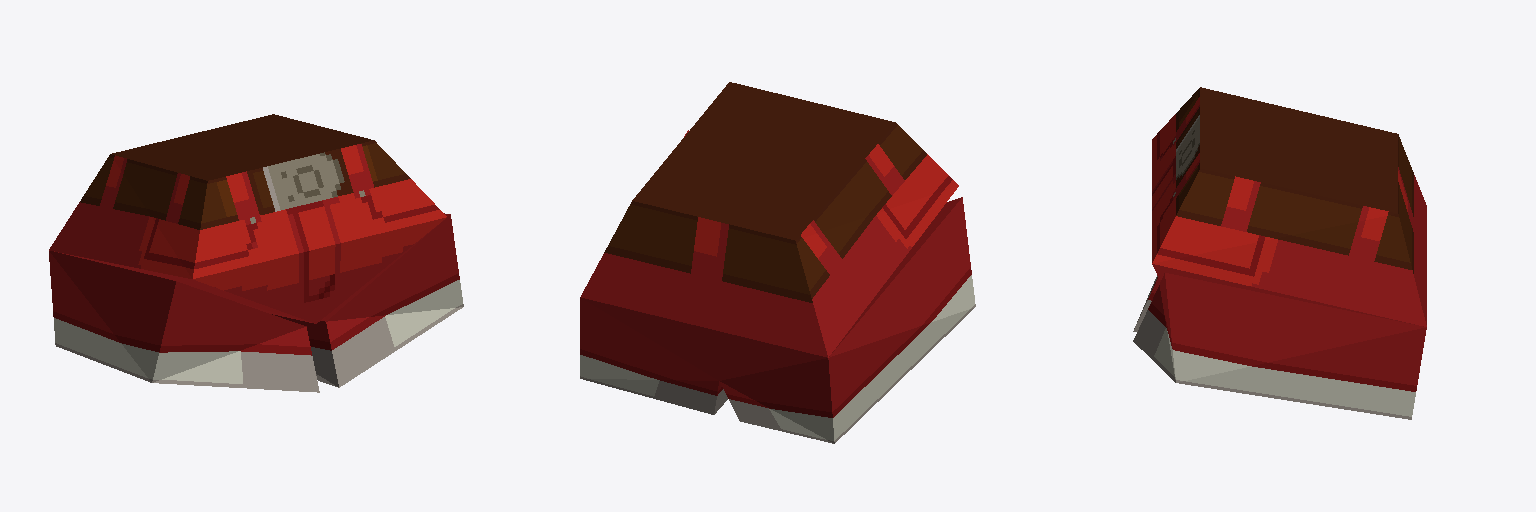
3 renders of one model, left to right at view 1: azimuth 30°, elevation 25°; view 2: azimuth 150°, elevation 25°; view 3: azimuth 270°, elevation 25°, orthographic.
Parts seen in each view (by area): view 1: Hip_Legs.001; view 2: Hip_Legs.001; view 3: Hip_Legs.001.
Boxes of the visible parts, x1=… form: Hip_Legs.001: x1=49, y1=114, x2=463, y2=392; Hip_Legs.001: x1=580, y1=82, x2=975, y2=443; Hip_Legs.001: x1=1133, y1=87, x2=1426, y2=419.
Size of the model in its own units: 1.22 by 0.9391 by 0.994.
1 materials, 1 textured.